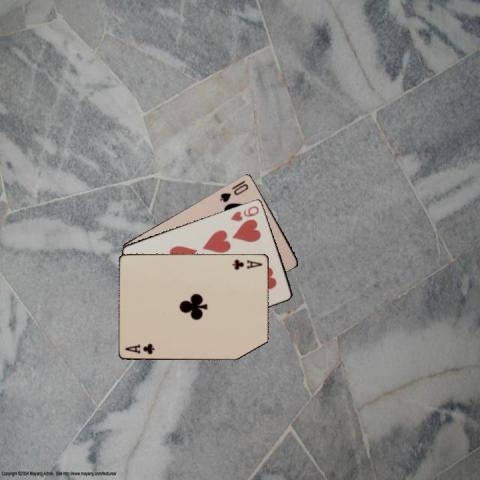10s: (217, 180, 250, 203)
9h: (227, 202, 261, 222)
Ac: (229, 256, 264, 270), (123, 342, 156, 356)
